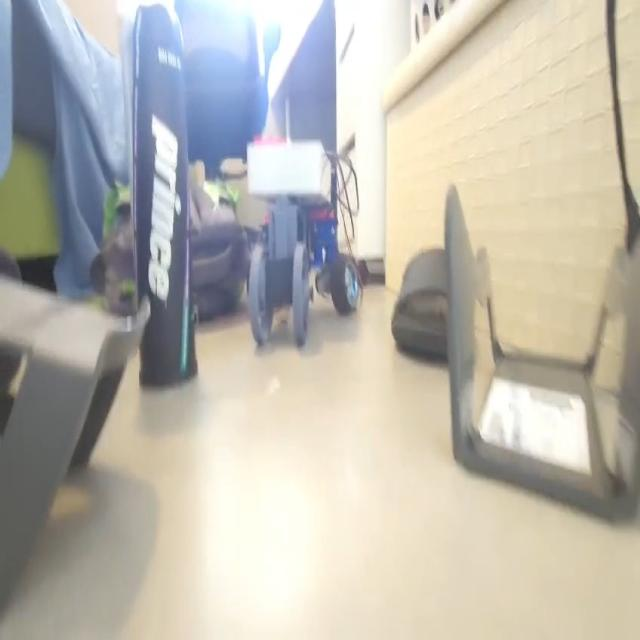Robot: (246, 132, 358, 345)
